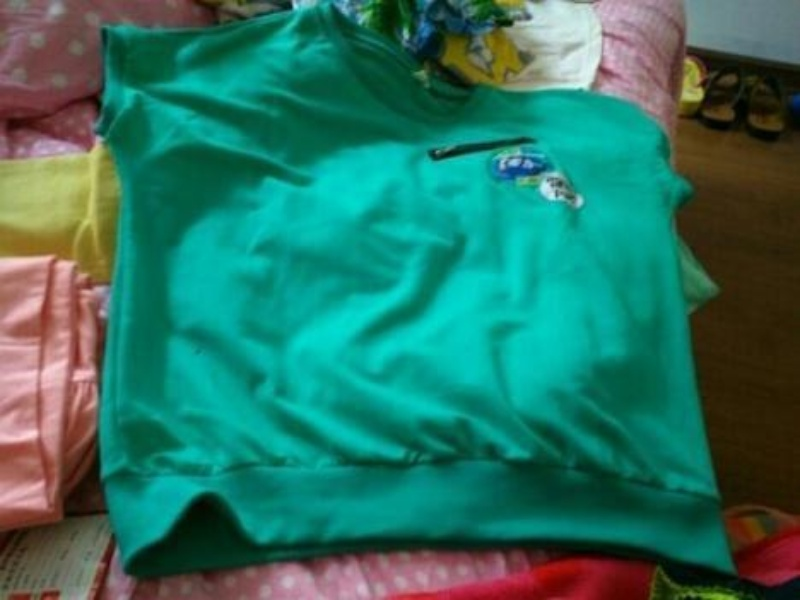short_sleeved_shirt: (85, 2, 750, 588)
